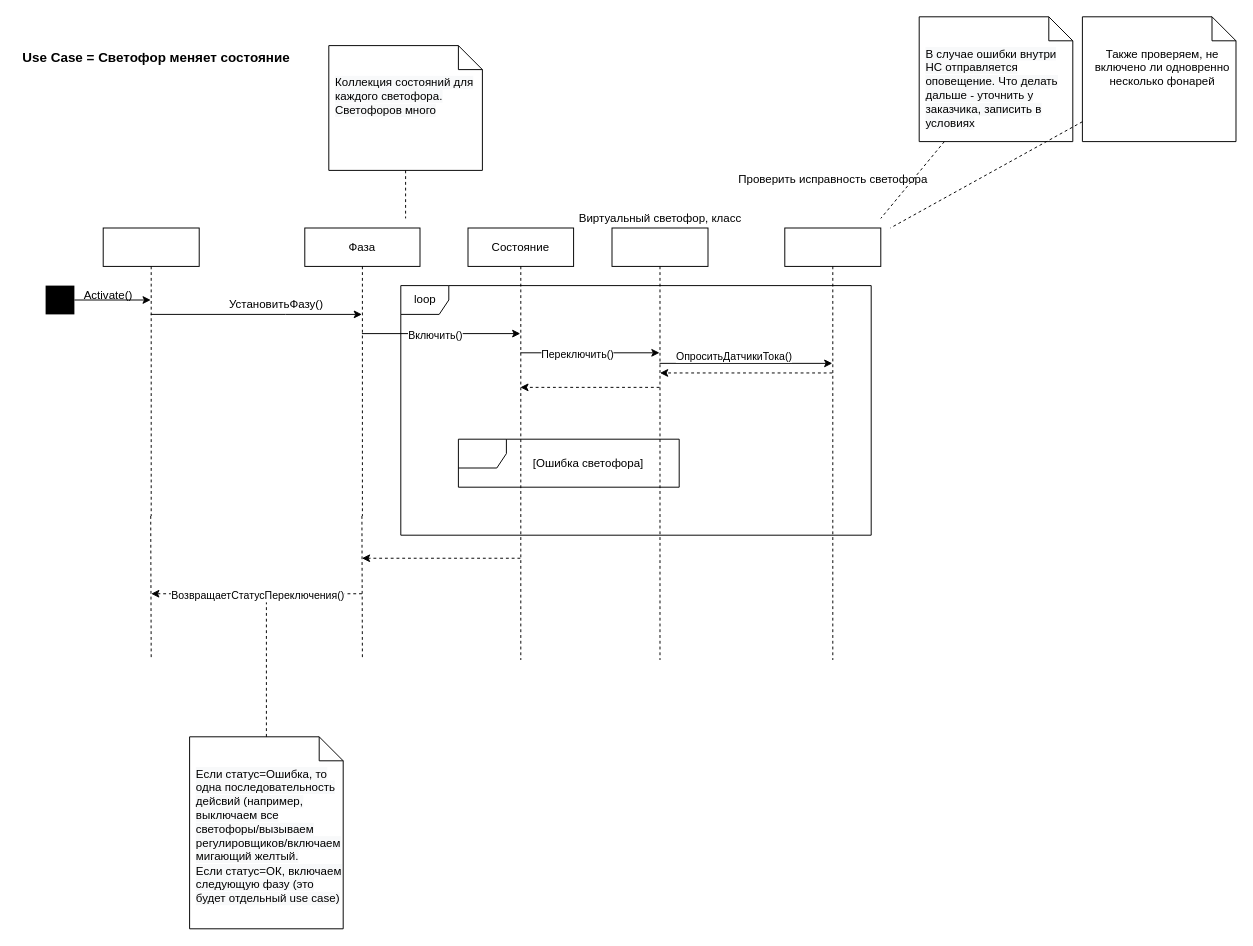
Image size: 1253x946. Some labels were removed from this diagram. Each missing label, with the box of its shape:
break: (457, 438, 679, 487)
HealthCheck: (784, 227, 881, 660)
Светофор: (611, 227, 708, 660)
Элемент группы фаз: (102, 227, 199, 516)
